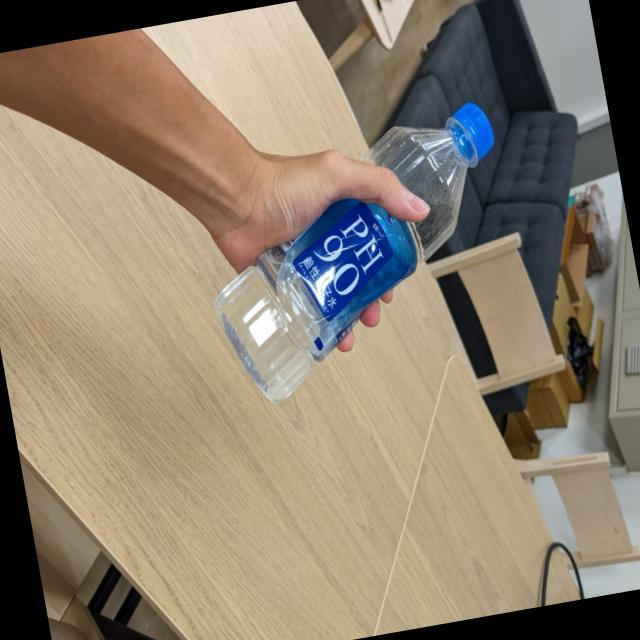good: (186, 92, 536, 414)
